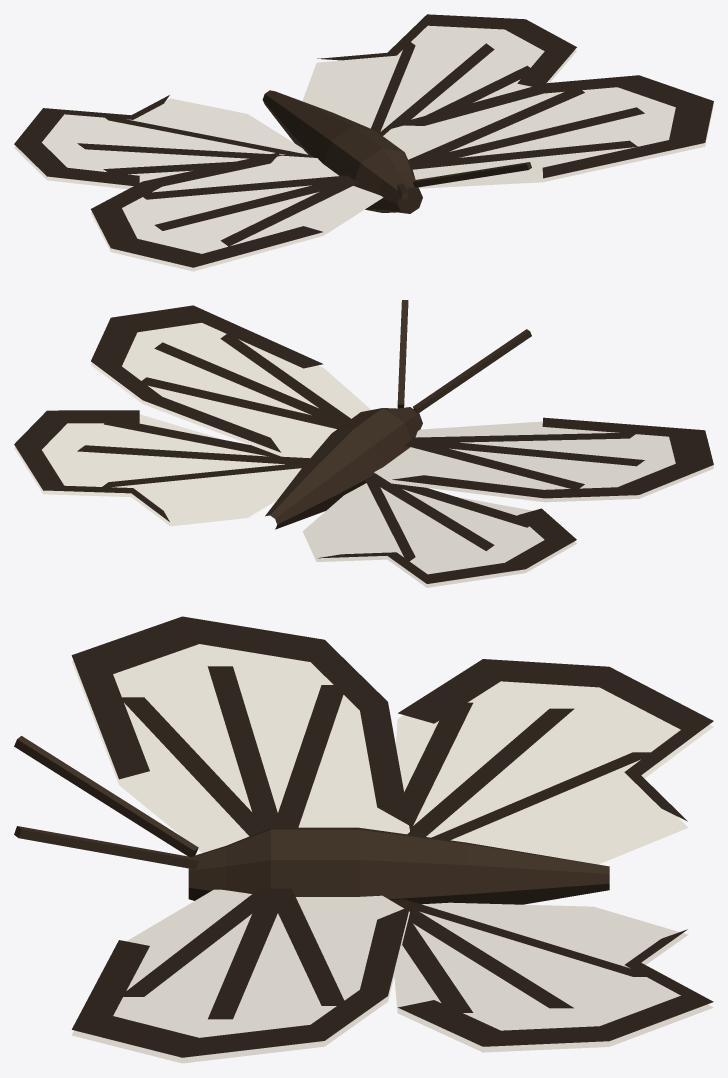
File: butterfly.meshopt.glb
3 views of the same model, one above another, from view 1: azimuth 30°, elevation 25°; view 2: azimuth 150°, elevation 25°; view 3: azimuth 270°, elevation 25° (orthographic). The views are drawn at different scales.
Parts seen in each view (by area): view 1: butterfly; view 2: butterfly; view 3: butterfly.
Part boxes in pixels (bbox=[...]): butterfly: bbox=[14, 14, 713, 271]; butterfly: bbox=[14, 300, 713, 587]; butterfly: bbox=[14, 616, 713, 1063].
Size of the model in its own units: 0.33 by 0.0504 by 0.2212.
